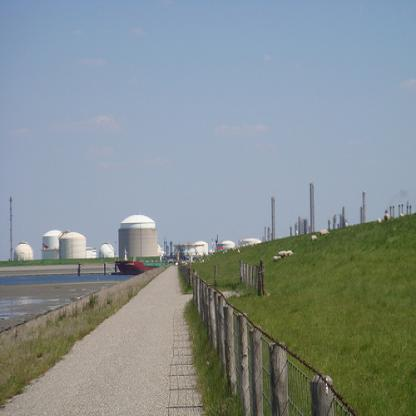boat: (116, 259, 166, 273)
